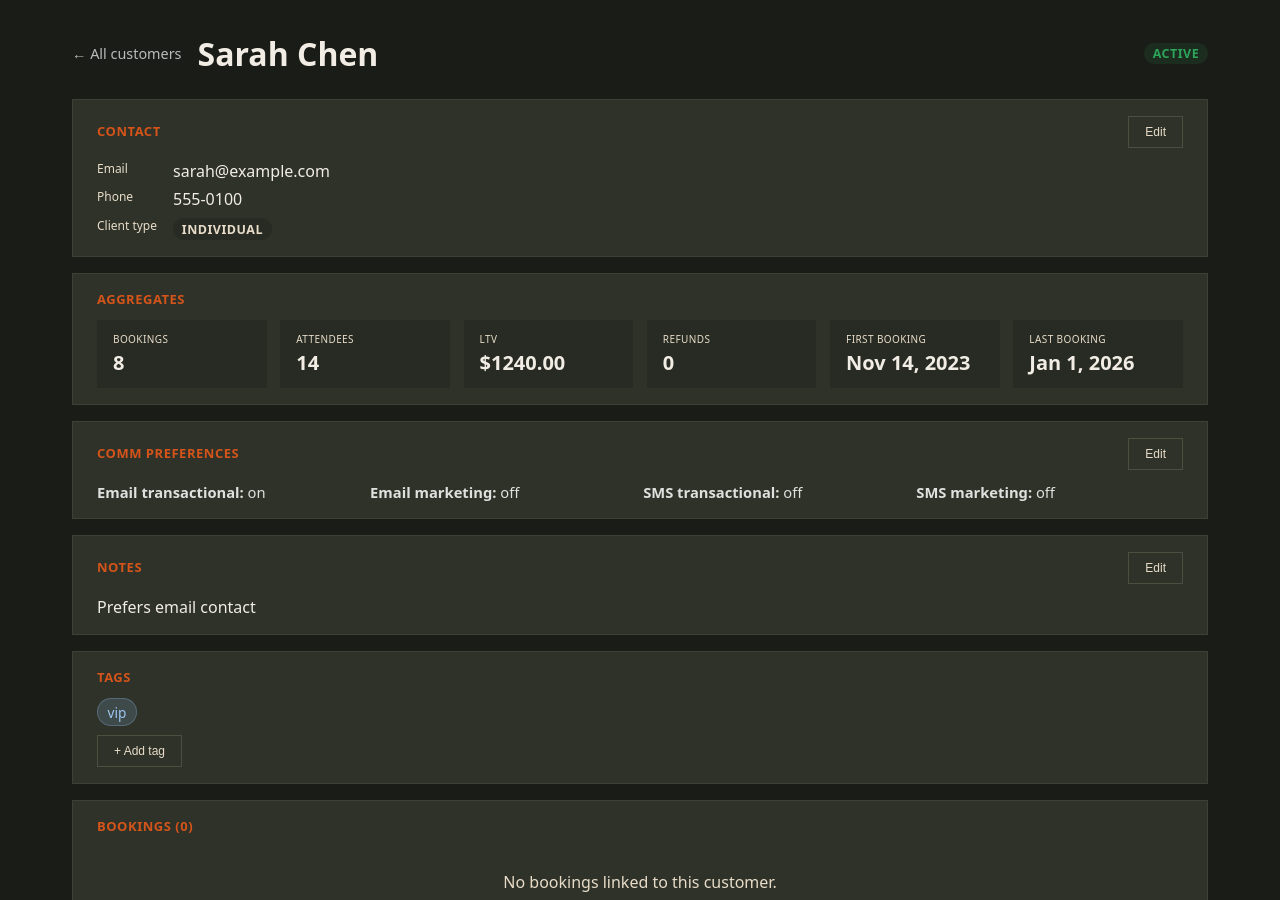
Test case: AdminCustomerDetail — consent ceremony › surfaces the suppression 409 from the server
Expected: the heading "Comm preferences" is shown, [97,444,239,462]
Step 1. Click the button with aria-label "Edit comm preferences" → point(1156, 454), box [1128,438,1183,470]
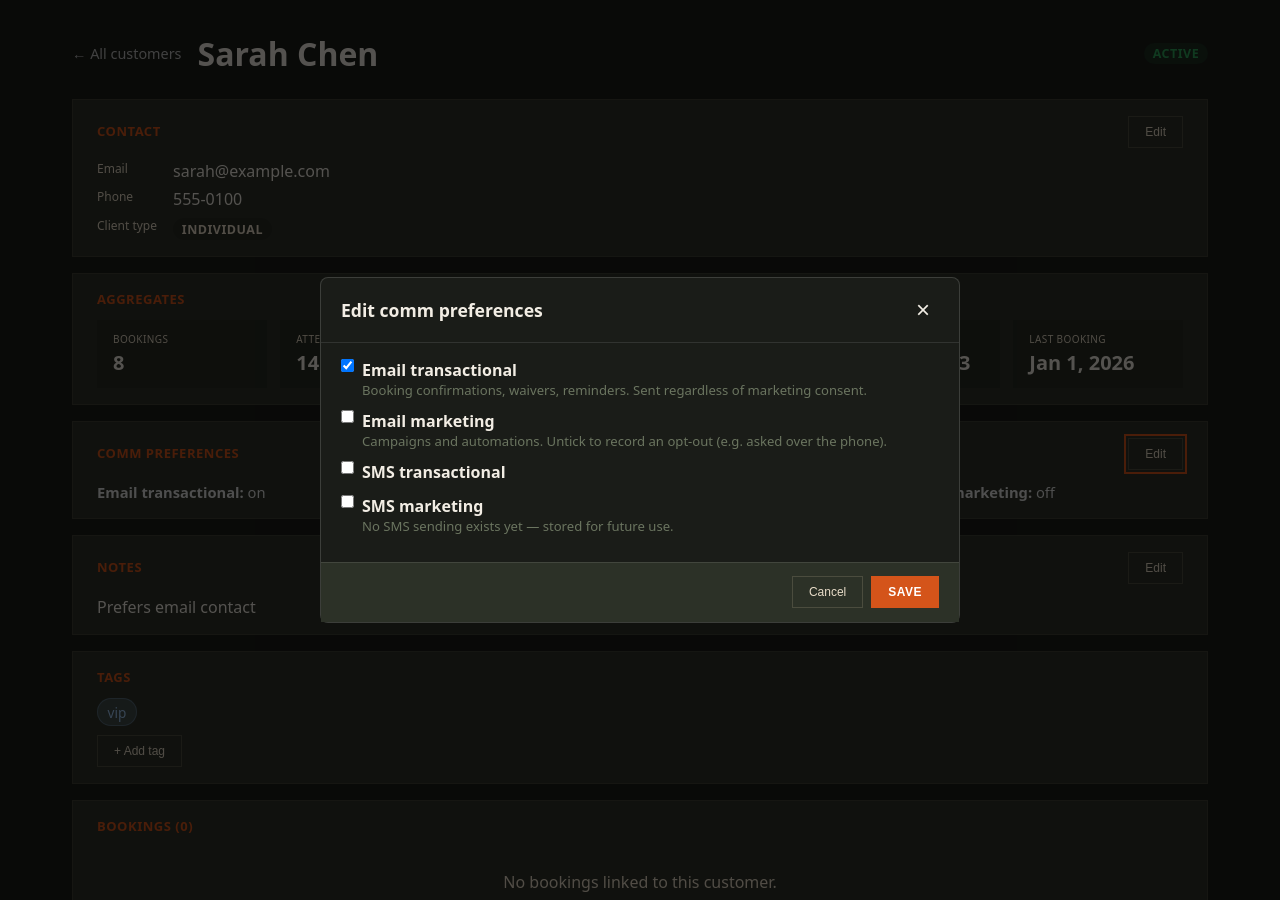
Expected: the heading "Edit comm preferences" is shown, [341,298,543,322]
Step 2. Click the checkbox labelled "Email marketing" → point(348, 417), box [341,410,354,423]
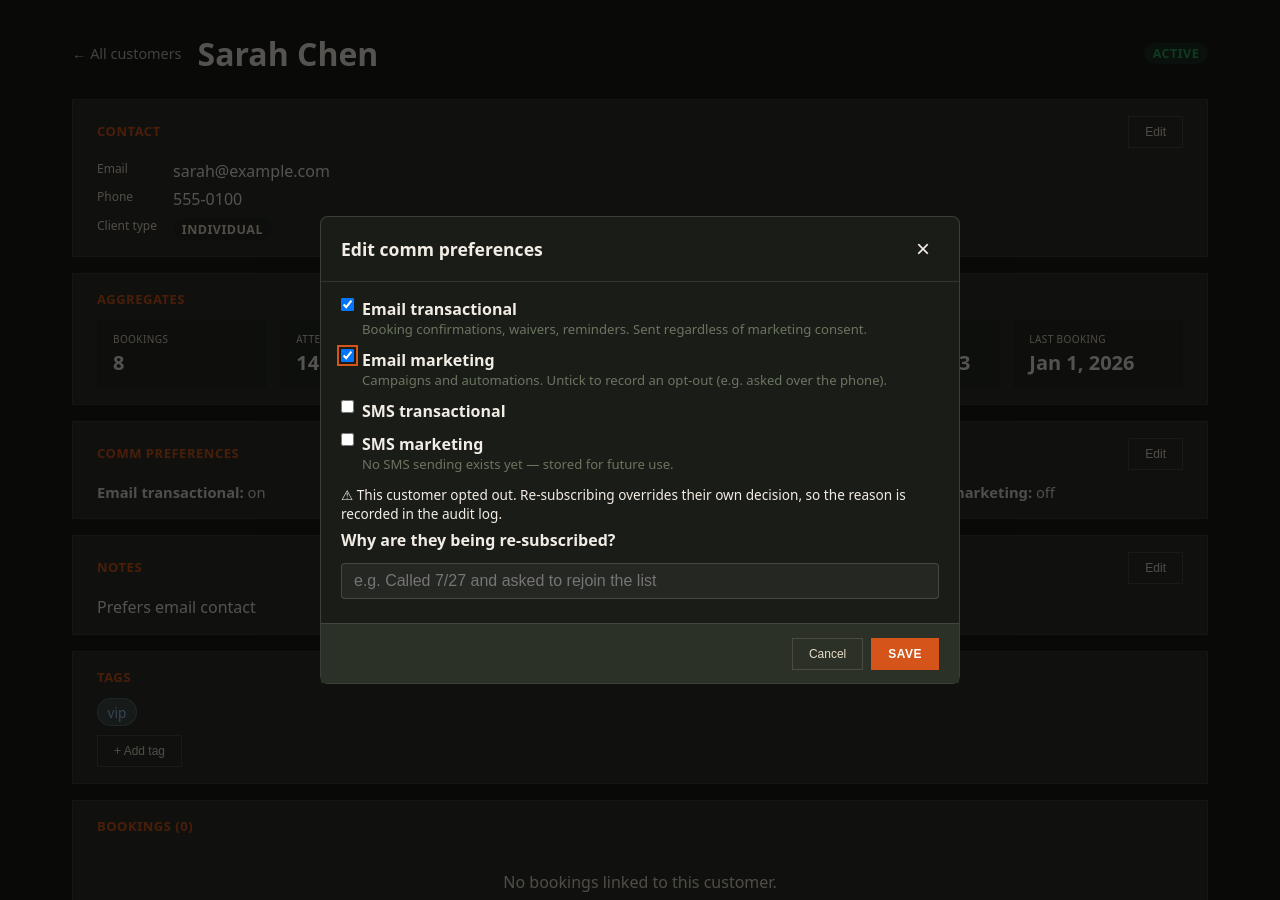
Step 3. Type "they called" into the field labelled "Why are they being re-subscribed?" → point(640, 581), box [341,563,939,599]
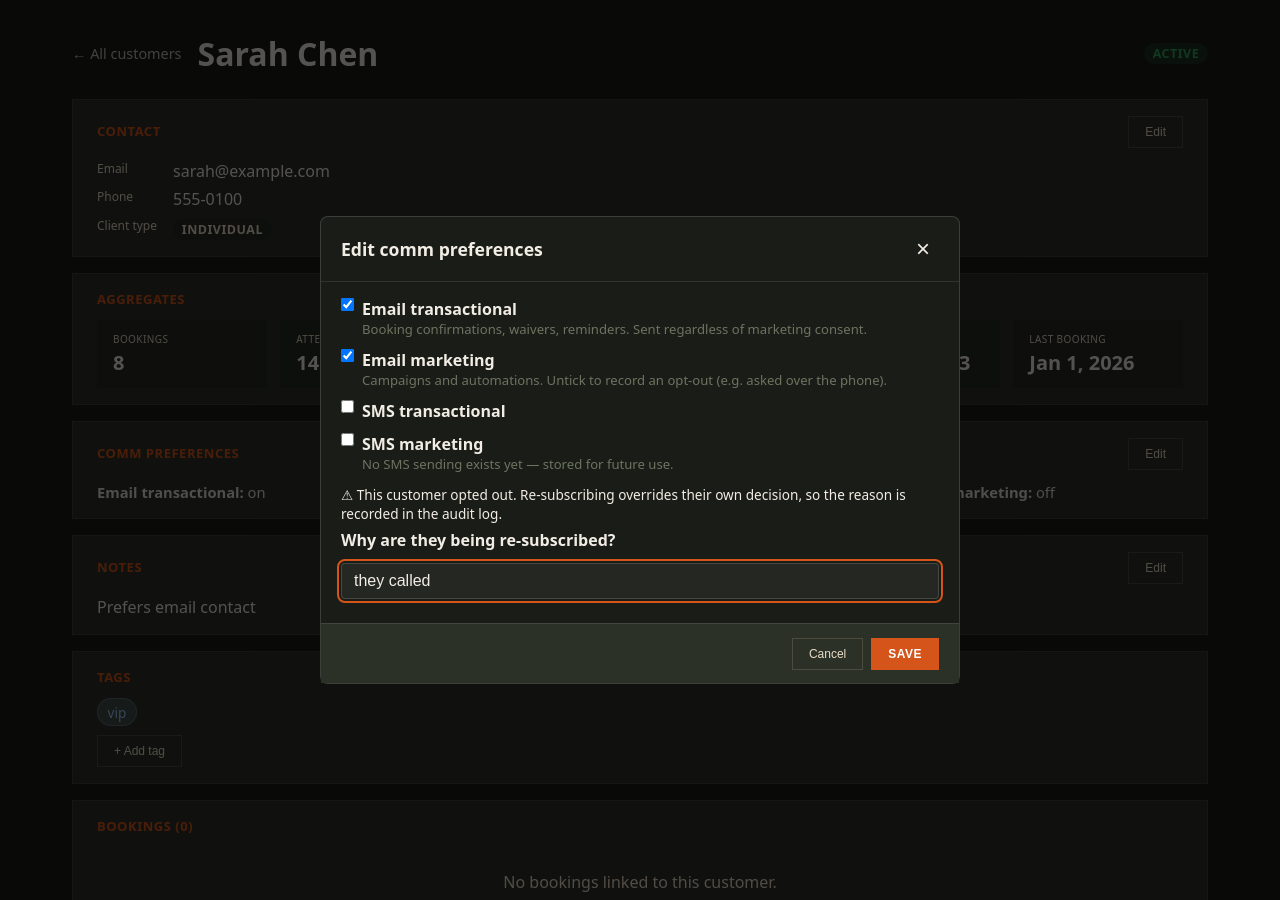
Step 4. Click the button "Save" → point(905, 654), box [871,638,939,670]
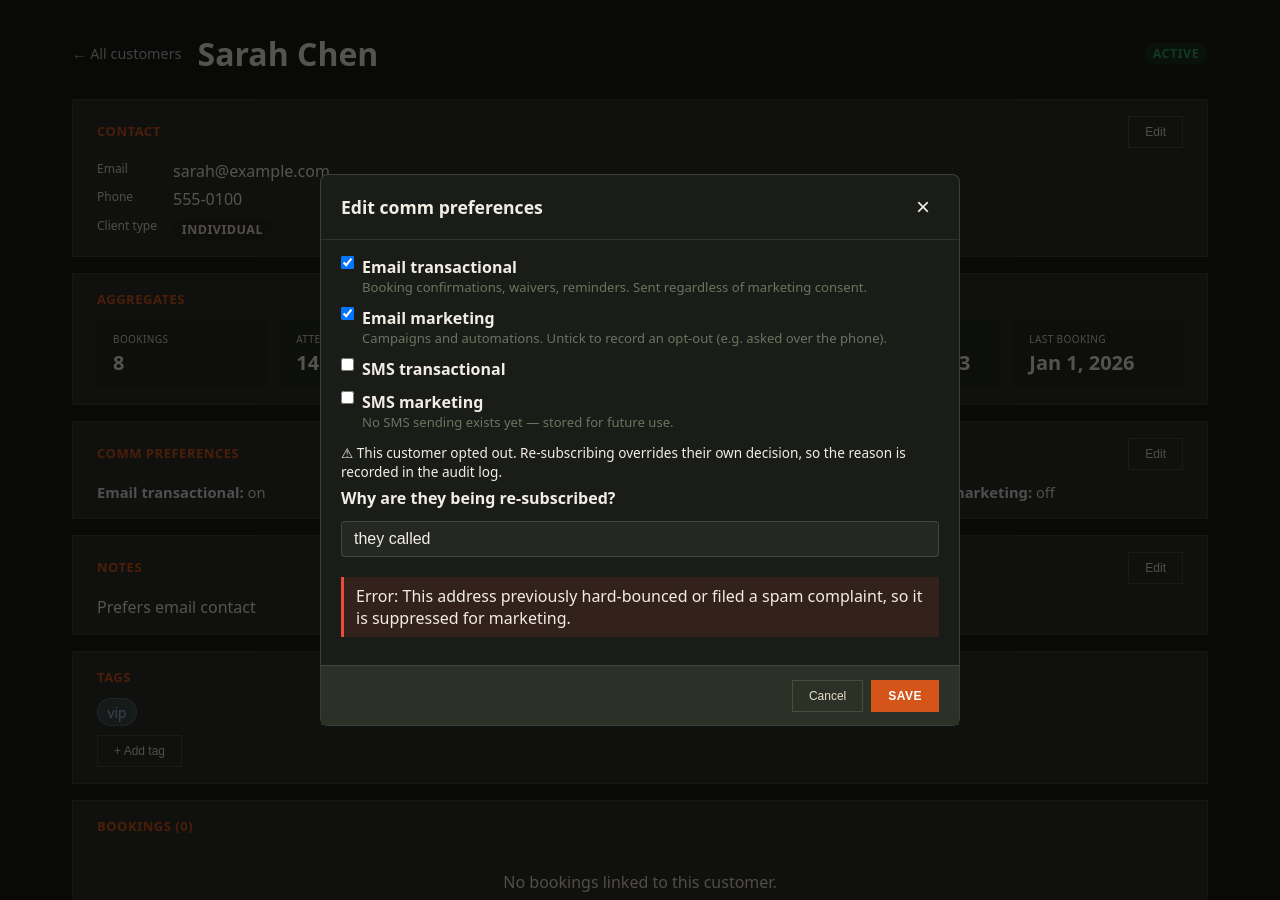
Expected: the text "spam complaint" is shown, [356,585,922,629]
